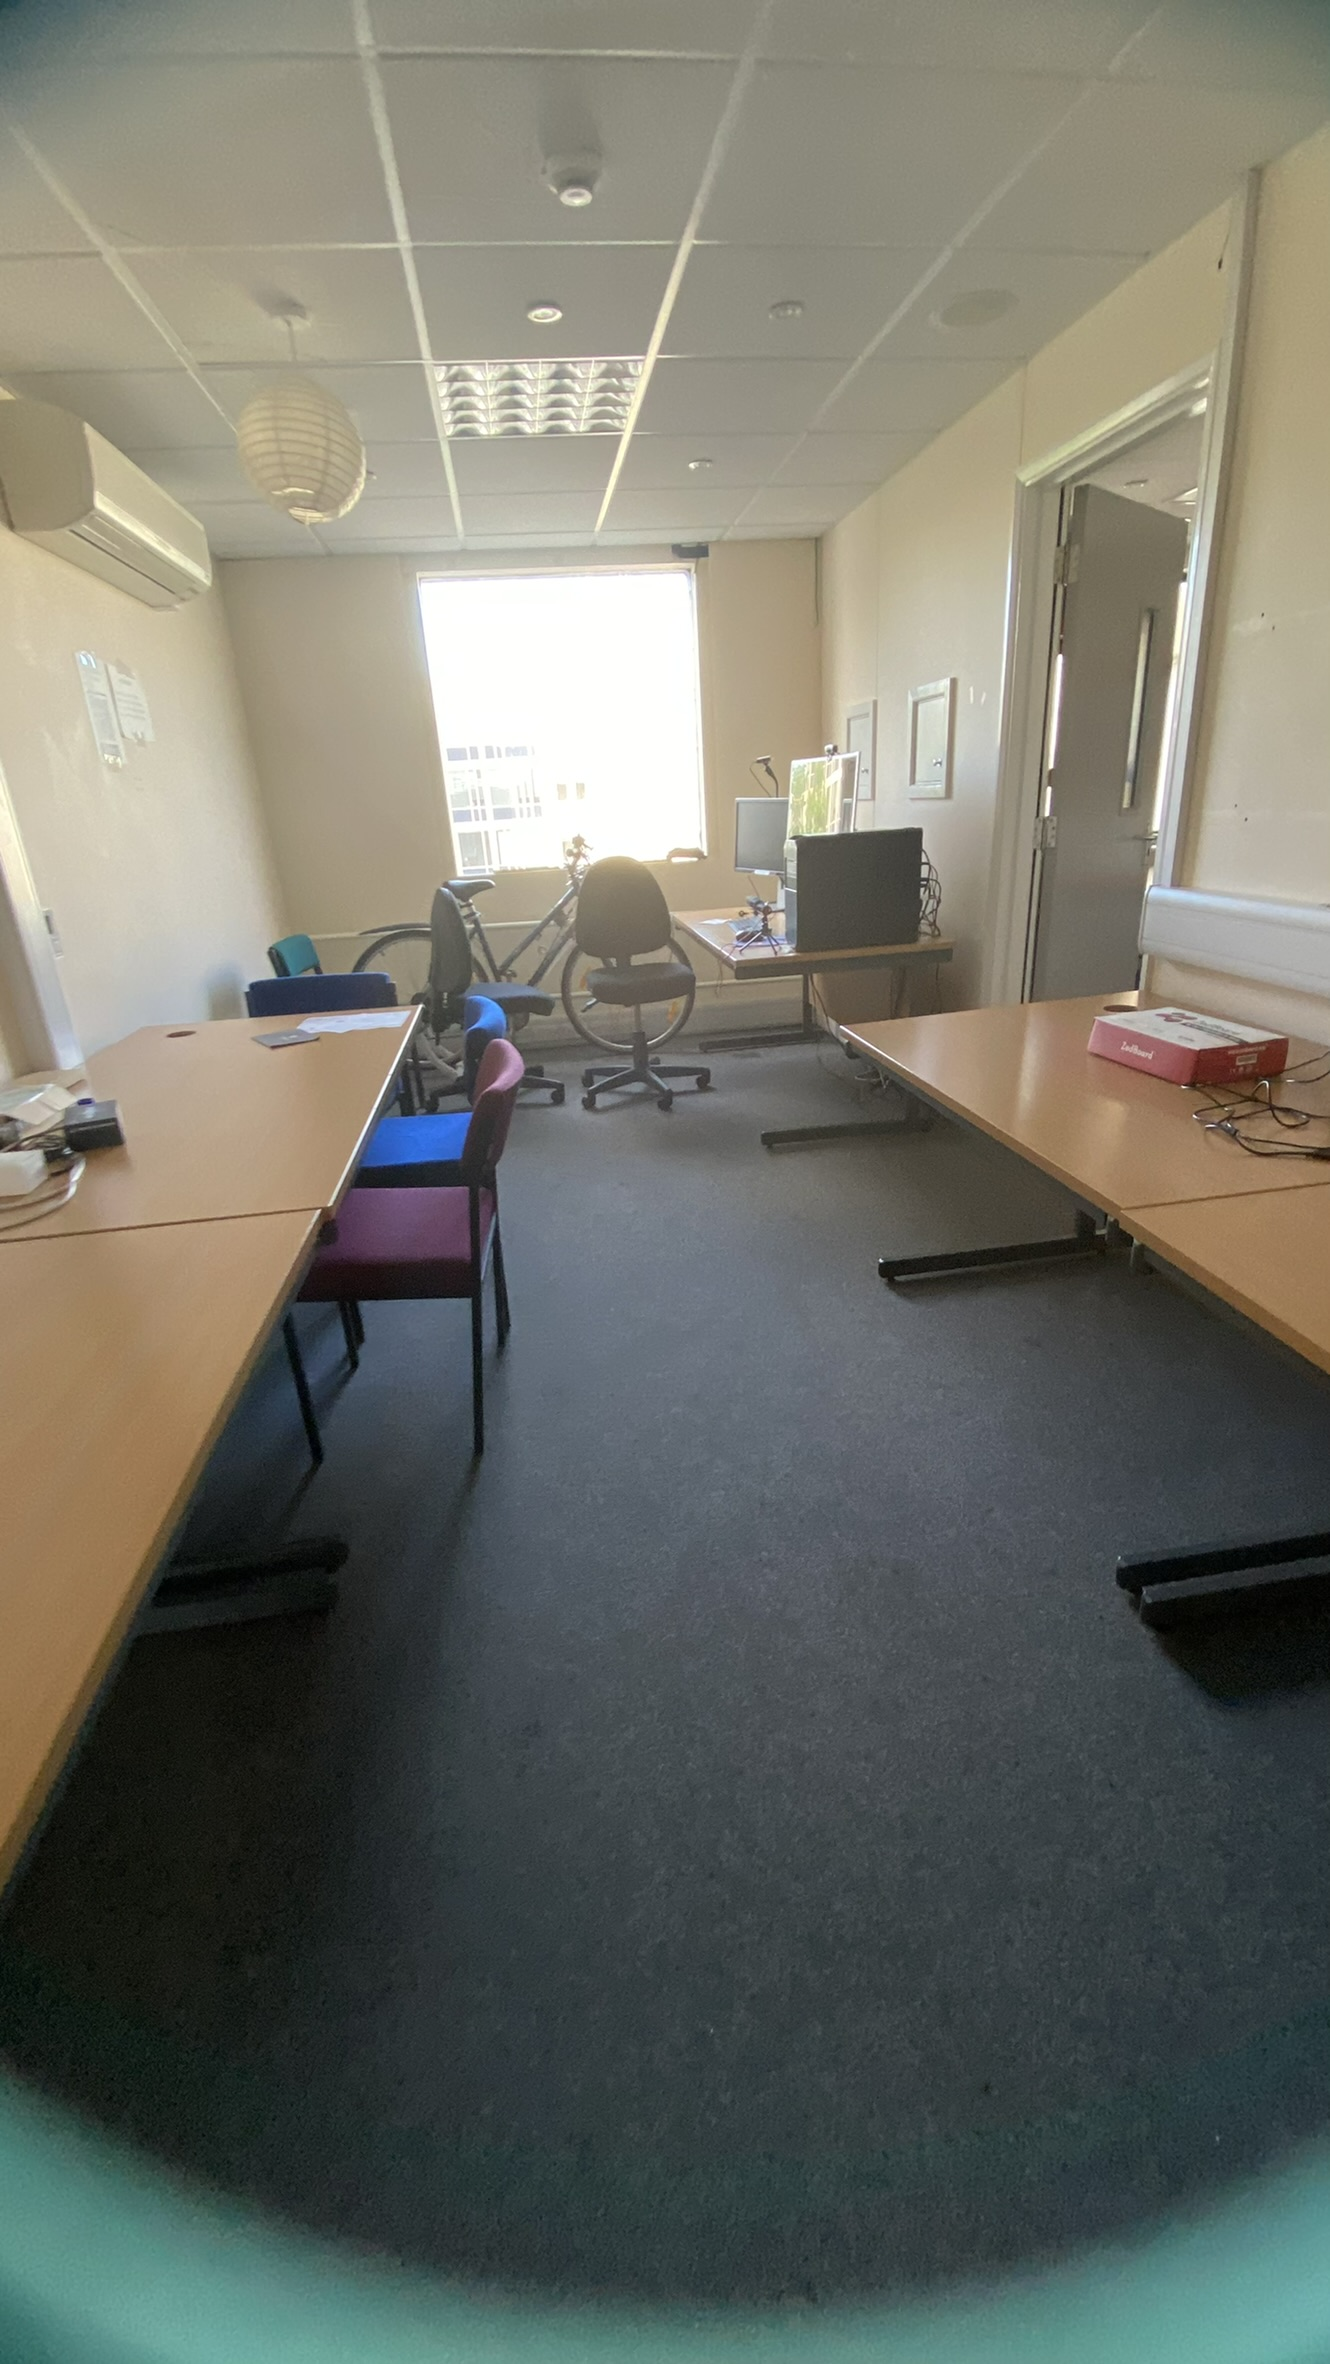chair: (253, 1008, 538, 1544)
table: (2, 909, 414, 2030), (788, 986, 1330, 1658)
